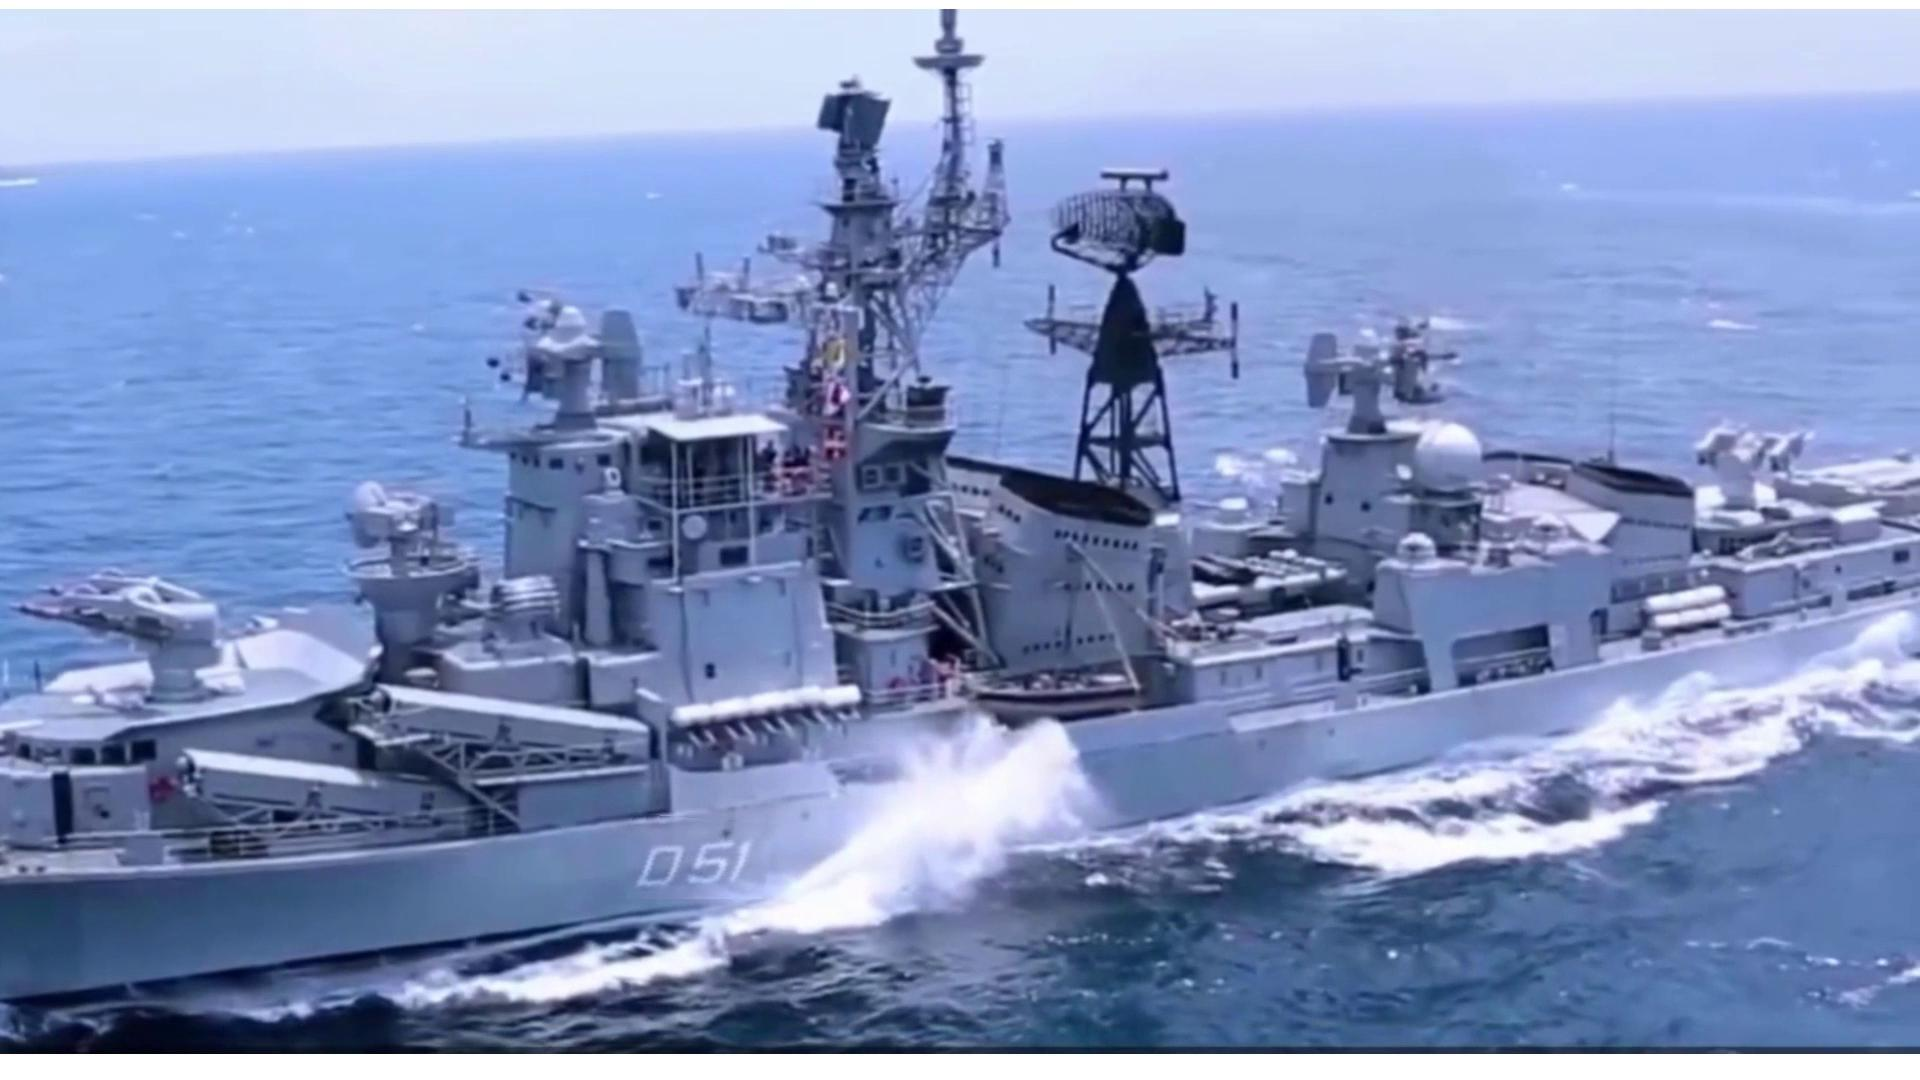OCR: (626, 813, 777, 899)
